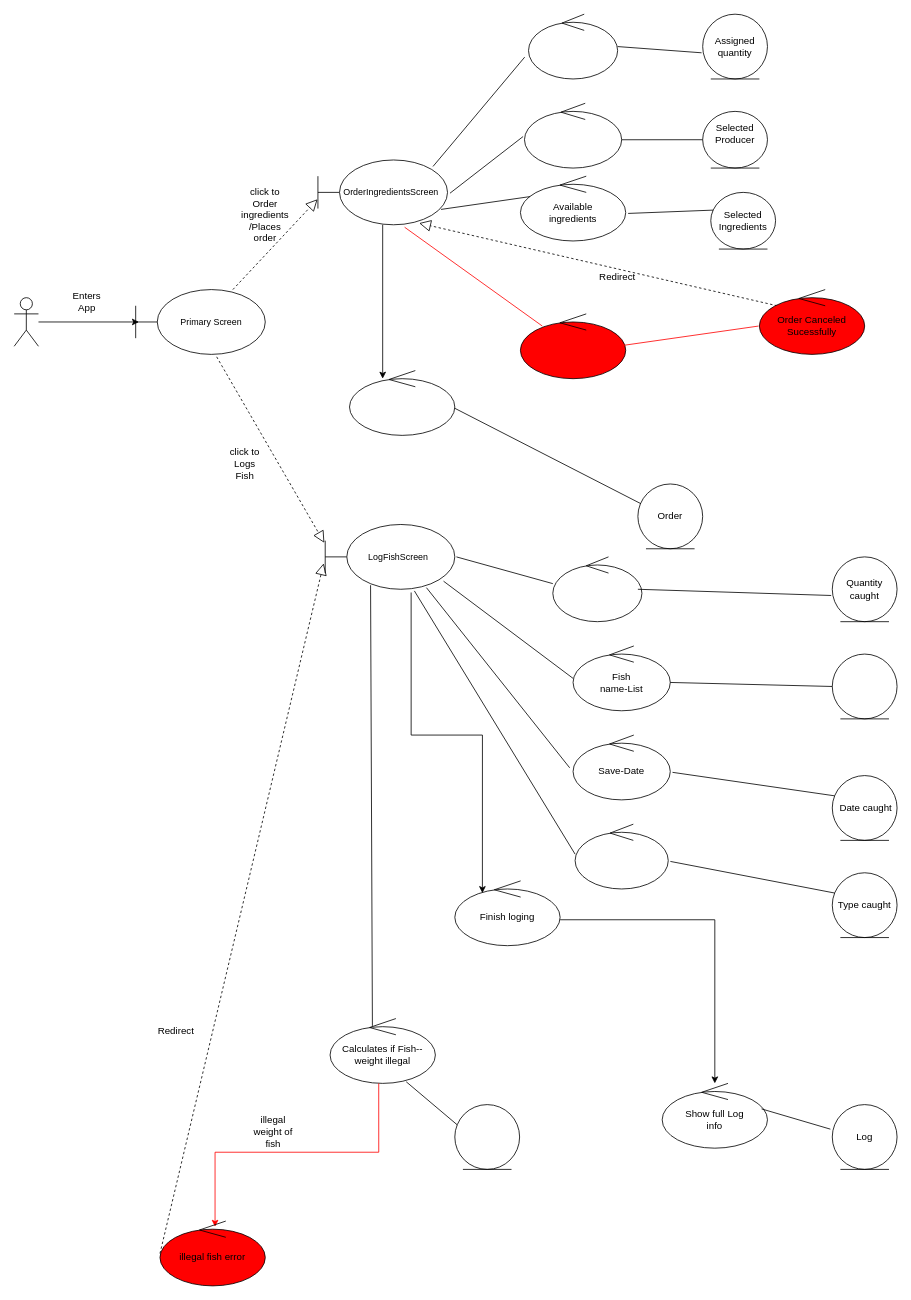
Some shapes in this 911 by 1300 pixel diagram are drawn without their labels. The shapes that lost their labels are listed below. From the top down, each one's box as (x1, y1, x2, y2) in pixels, then its label:
(528, 13, 618, 79): Available quantity
(524, 102, 622, 168): Available producers
(13, 297, 38, 346): User
(520, 313, 626, 379): Cancel Order
(349, 370, 455, 435): Saves order
(552, 556, 642, 622): Enter quantity
(831, 653, 897, 719): Name of caught-fish
(574, 823, 668, 889): Types of fish list
(454, 1104, 520, 1169): Legal weight
